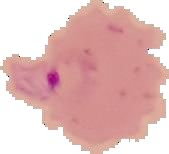parasitized: (45, 48, 104, 105), (12, 58, 78, 104)
